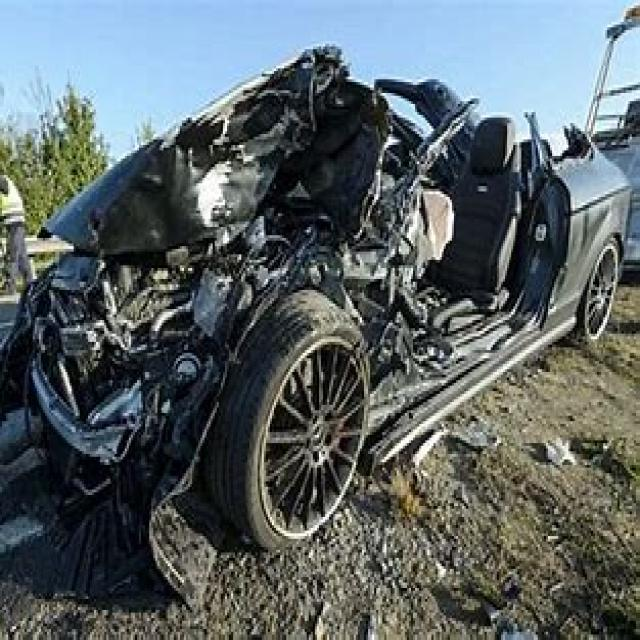Accident: (38, 47, 640, 513)
